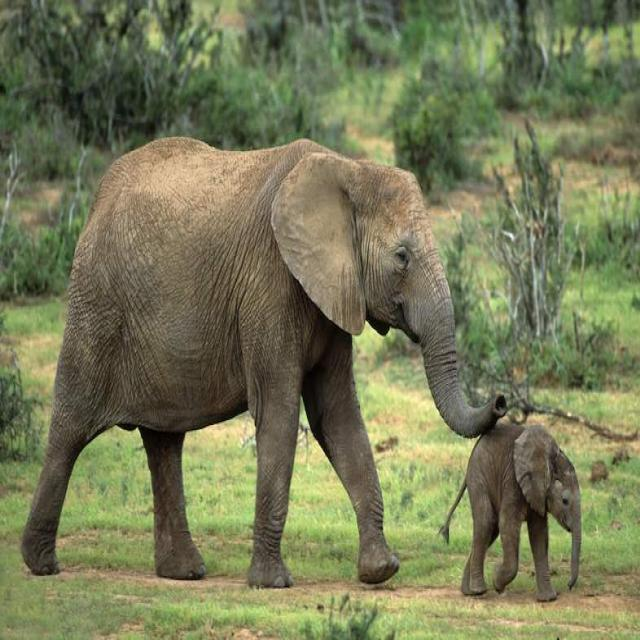Elephant: (22, 111, 467, 599), (466, 380, 588, 620)
